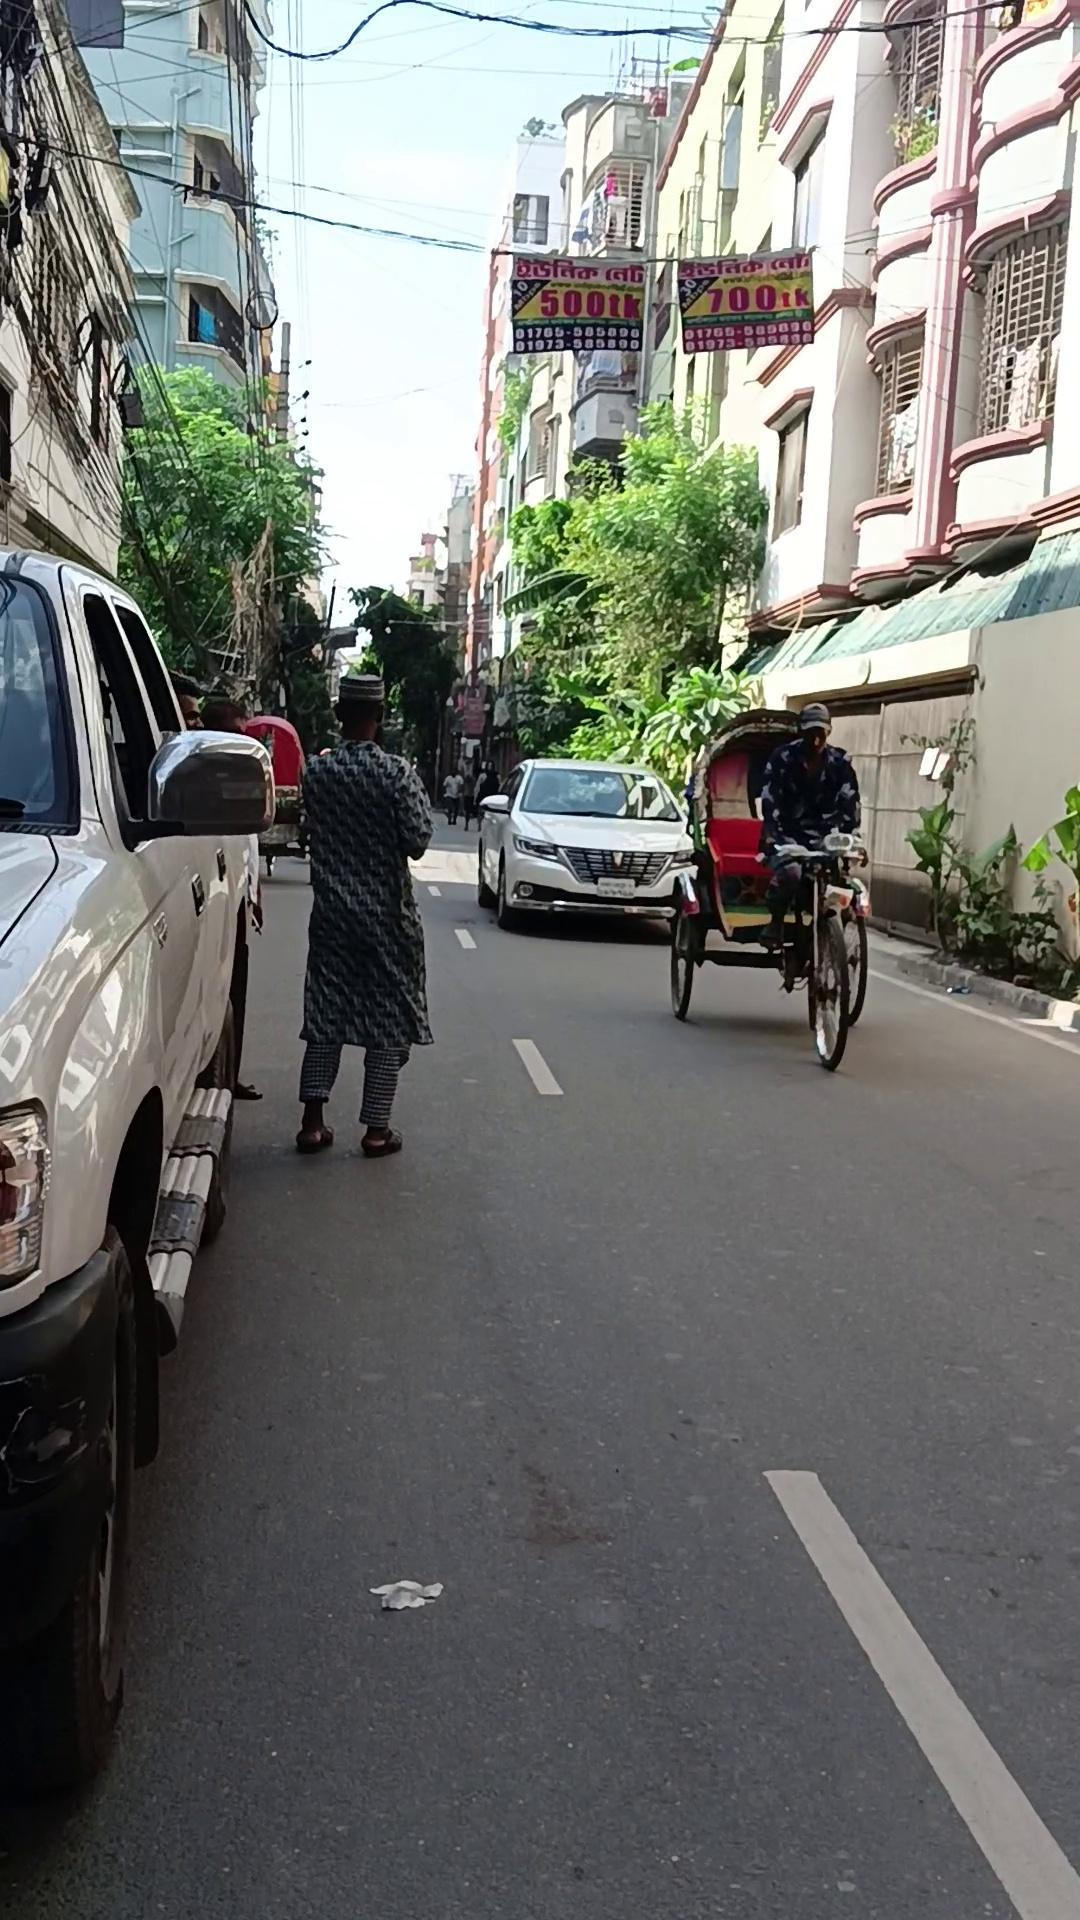Bollard: (0, 545, 276, 1795), (475, 756, 698, 931)
Broken-road: (857, 923, 1077, 1048), (893, 948, 1062, 1021)
Curb: (294, 673, 434, 1156), (756, 702, 862, 975)
Fallen-tree: (886, 103, 938, 164)
Fence: (667, 705, 872, 1071)
Light-pole: (497, 389, 770, 807), (112, 357, 343, 723)
Obstacle: (760, 603, 1077, 992), (952, 603, 1077, 985)
